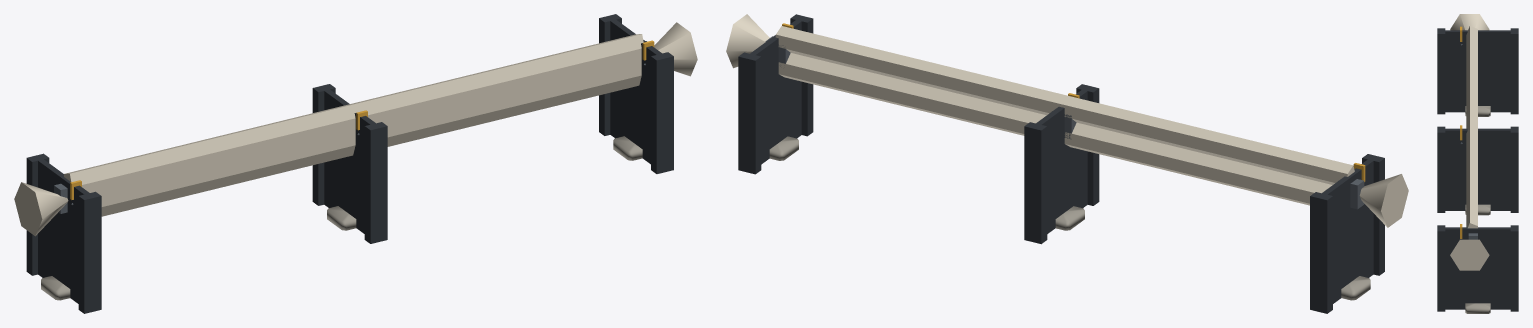
The model's file is guard-rail-section.glb.
3 renders of one model, left to right at view 1: azimuth 30°, elevation 25°; view 2: azimuth 150°, elevation 25°; view 3: azimuth 270°, elevation 25°, orthographic. The views are drawn at different scales.
Visible parts, largest first — view 1: Merged_prop-body-light, Merged_city-metal-dark, Merged_city-curb; view 2: Merged_prop-body-light, Merged_city-metal-dark, Merged_city-curb, Merged_city-metal; view 3: Merged_city-metal-dark, Merged_prop-body-light, Merged_city-curb, Merged_city-warning-surface, Merged_city-metal.
Boxes of the visible parts, left/top/right/bottom form: Merged_prop-body-light: left=14, top=22, right=697, bottom=236; Merged_city-metal-dark: left=26, top=14, right=673, bottom=313; Merged_city-curb: left=41, top=136, right=642, bottom=300; Merged_prop-body-light: left=726, top=14, right=1408, bottom=227; Merged_city-metal-dark: left=738, top=14, right=1384, bottom=313; Merged_city-curb: left=769, top=136, right=1370, bottom=300; Merged_city-metal: left=765, top=36, right=1364, bottom=209; Merged_city-metal-dark: left=1437, top=28, right=1518, bottom=311; Merged_prop-body-light: left=1450, top=14, right=1489, bottom=270; Merged_city-curb: left=1465, top=106, right=1490, bottom=313; Merged_city-warning-surface: left=1460, top=26, right=1462, bottom=238; Merged_city-metal: left=1460, top=44, right=1477, bottom=239.
Size of what is drawn, in the model's own units: 4.58 by 0.81 by 0.7.
